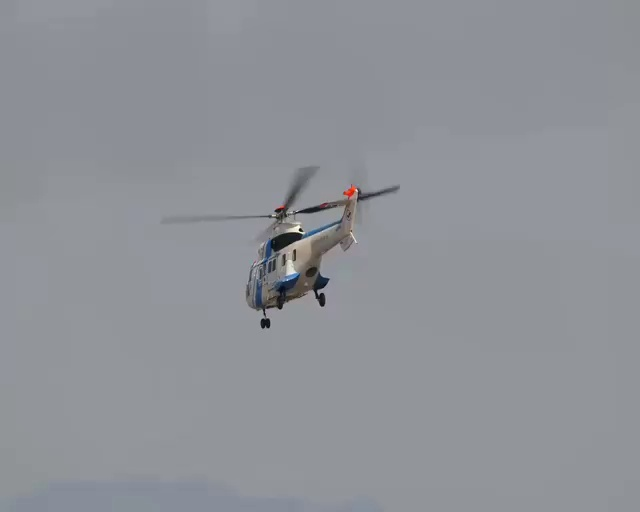HELICOPTER: (160, 163, 400, 331)
